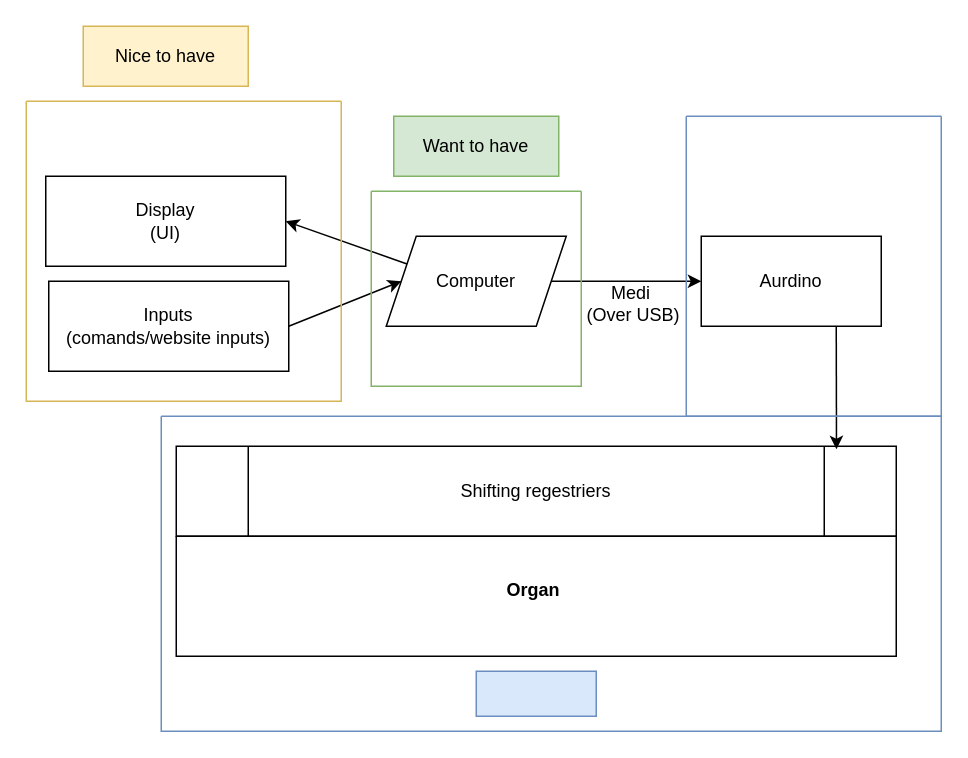
This 968x758 diagram has some shape labels left out. Each missing label, with the centre of its shape:
"Need to have" goes at [535,693].
"SPI" goes at [813,265].
